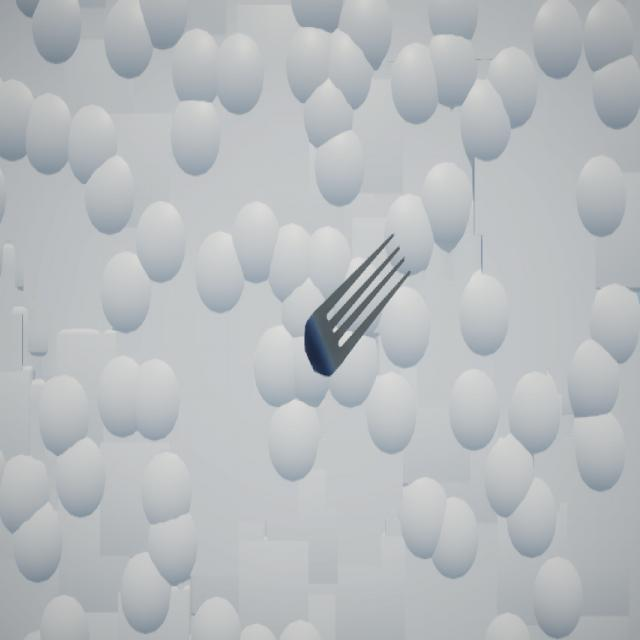top_folk: (305, 234, 412, 379)
